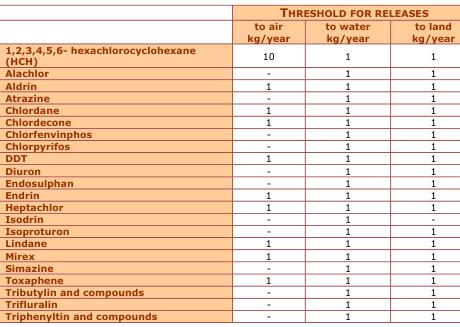table: (4, 4, 453, 321)
table column: (4, 4, 220, 321), (220, 4, 306, 321), (306, 4, 390, 321), (390, 4, 453, 321)
table column header: (4, 4, 453, 42)
table row: (4, 42, 453, 66), (4, 19, 453, 42), (4, 4, 453, 19), (4, 90, 453, 103), (4, 175, 453, 188), (4, 272, 453, 285), (4, 66, 453, 78), (4, 78, 453, 90), (4, 103, 453, 115), (4, 115, 453, 127), (4, 127, 453, 139), (4, 139, 453, 151), (4, 151, 453, 163), (4, 163, 453, 175), (4, 188, 453, 200), (4, 200, 453, 212), (4, 212, 453, 224), (4, 224, 453, 236), (4, 236, 453, 248), (4, 248, 453, 260), (4, 260, 453, 272), (4, 285, 453, 297), (4, 297, 453, 309), (4, 309, 453, 321)
table spanning cell: (220, 4, 453, 19)
